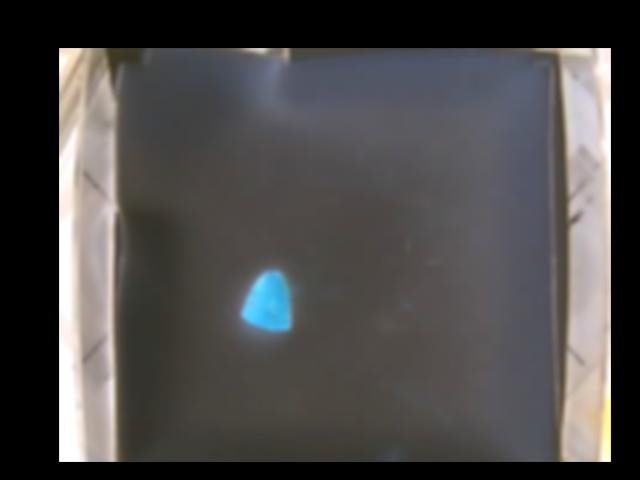Carrot: (240, 268, 291, 330)
